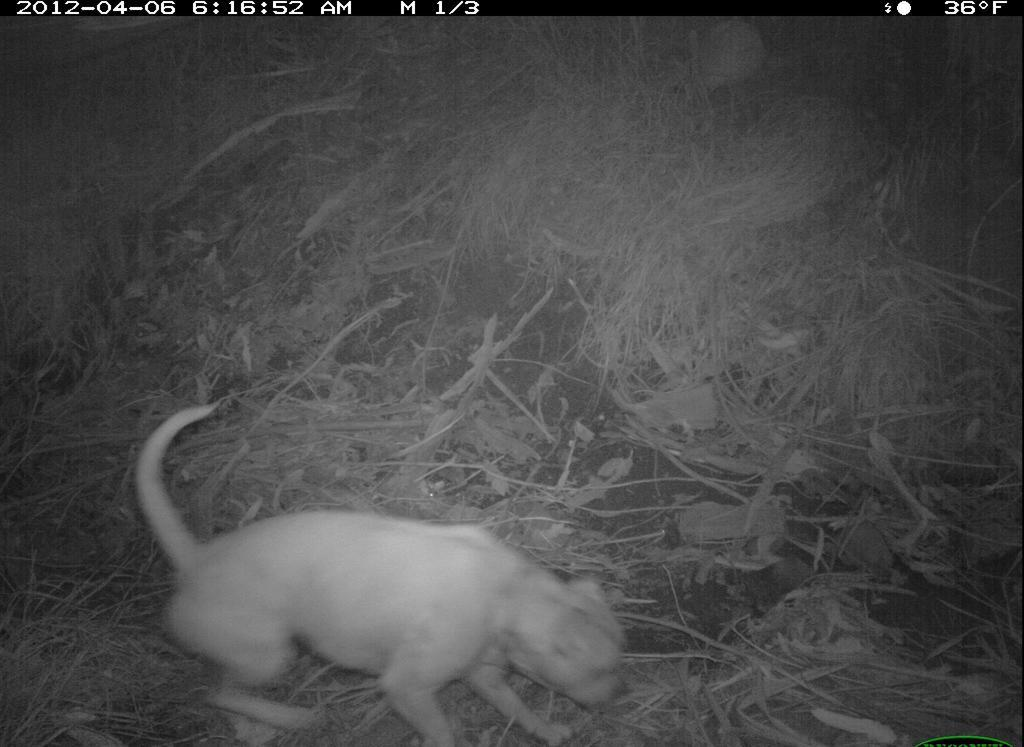dog: (122, 391, 634, 747)
